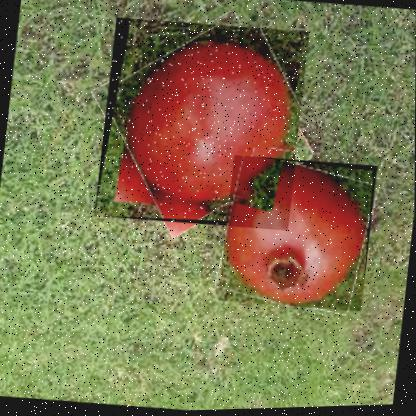pomegranate: (94, 11, 310, 235), (218, 151, 379, 316)
